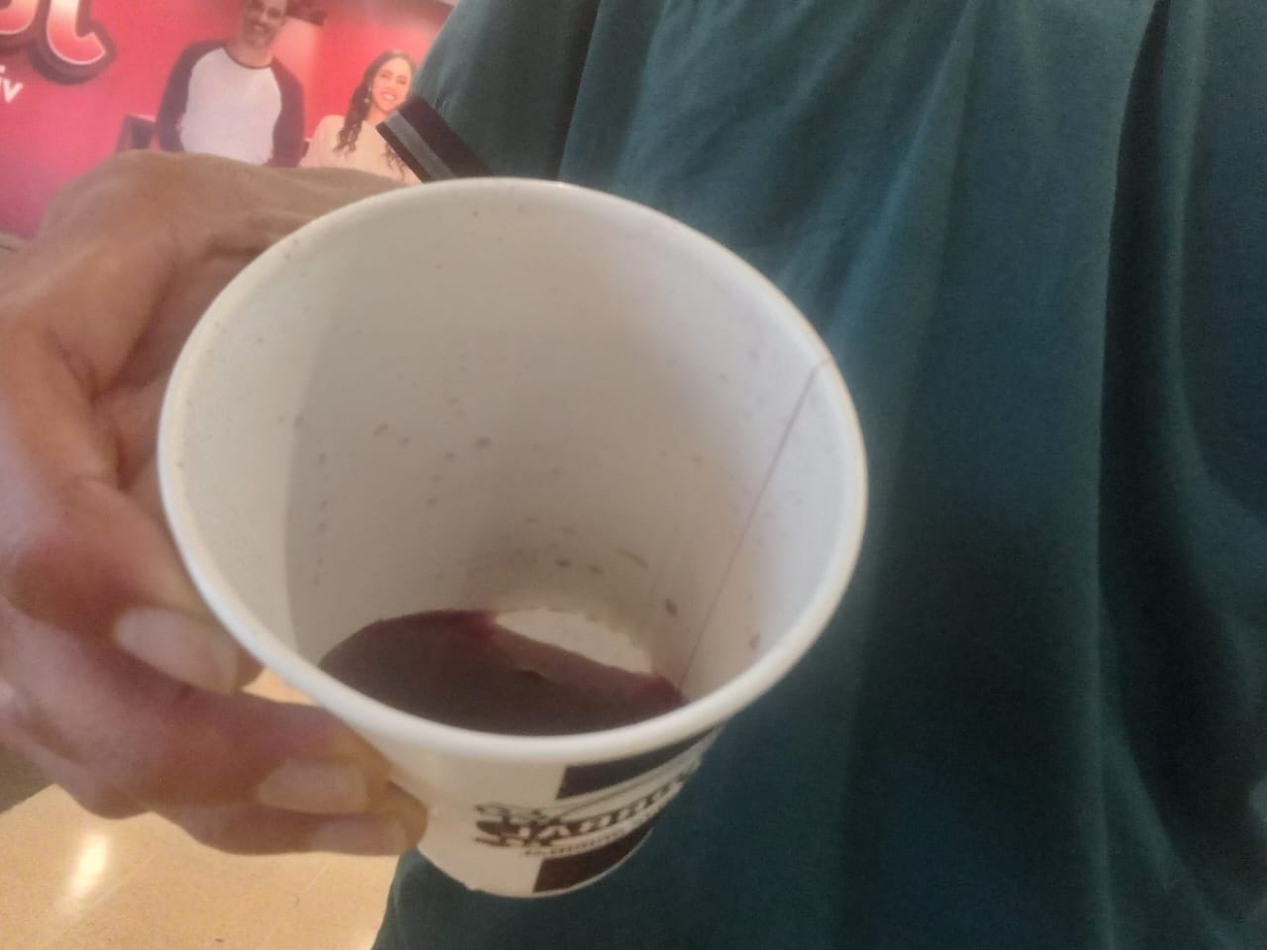Carton: (152, 176, 869, 901)
